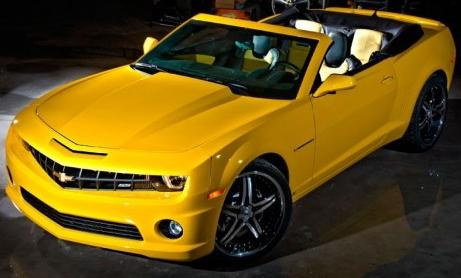front_view: (0, 111, 202, 265)
headlight: (146, 171, 194, 196)
